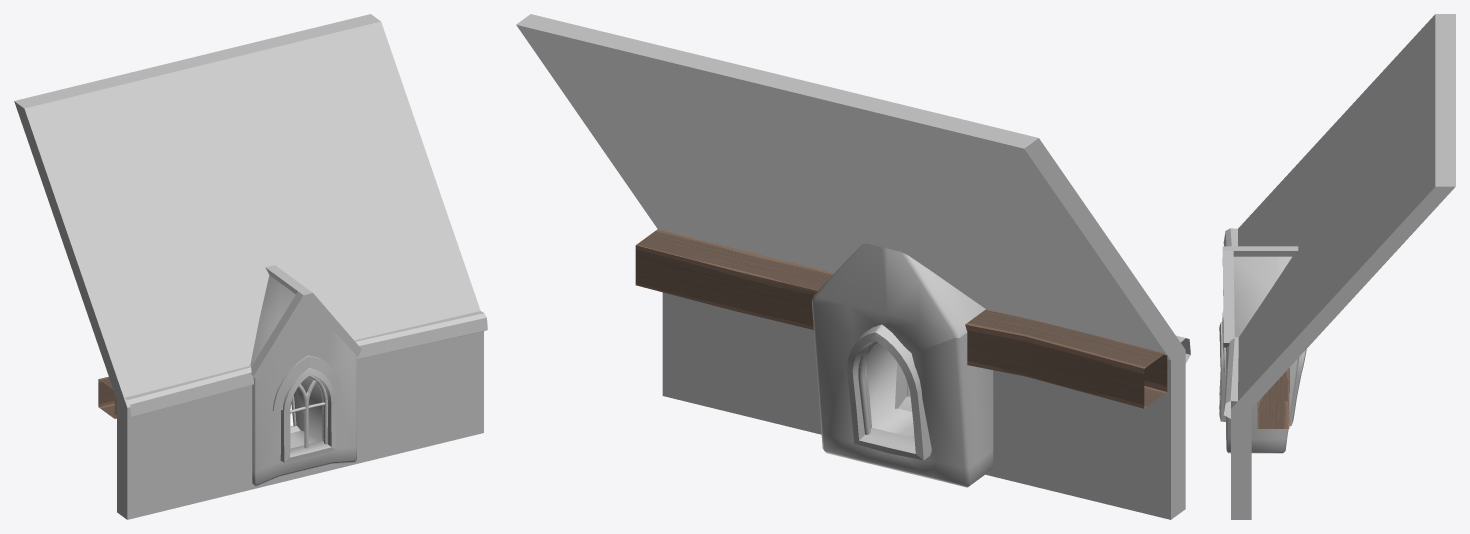
The model's file is SM_Roof_04.fbx.
3 renders of one model, left to right at view 1: azimuth 30°, elevation 25°; view 2: azimuth 150°, elevation 25°; view 3: azimuth 270°, elevation 25°, orthographic. The views are drawn at different scales.
Visible parts, largest first — view 1: SM_Roof_04_LOD0; view 2: SM_Roof_04_LOD0; view 3: SM_Roof_04_LOD0.
Part boxes in pixels (x1,y1,x2,y2): SM_Roof_04_LOD0: [14, 14, 487, 519]; SM_Roof_04_LOD0: [516, 14, 1190, 519]; SM_Roof_04_LOD0: [1219, 14, 1455, 519].
Size of the model in its own units: 1000 by 579 by 900.
